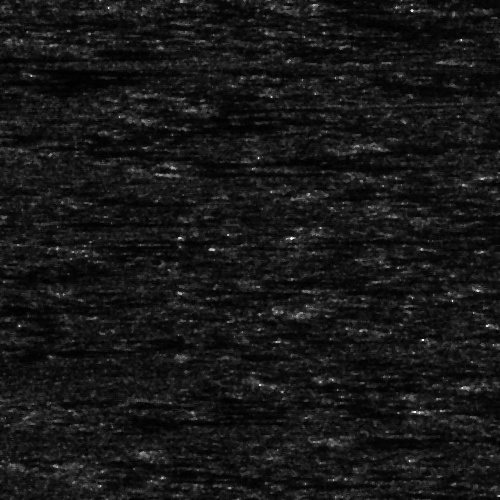object: (118, 154, 211, 167), (388, 54, 493, 63), (273, 431, 326, 444), (138, 167, 211, 176), (436, 289, 499, 294), (425, 381, 466, 388), (192, 244, 245, 249), (165, 105, 206, 110), (414, 406, 445, 411), (94, 417, 115, 422), (382, 276, 413, 279)
shadow: (165, 154, 395, 167), (300, 431, 415, 444), (0, 302, 96, 317), (105, 417, 322, 422), (175, 167, 289, 176), (186, 105, 359, 110), (311, 285, 430, 290), (219, 244, 335, 249), (440, 54, 500, 63), (445, 381, 500, 388), (430, 406, 500, 411), (398, 276, 500, 279), (468, 289, 500, 294)
